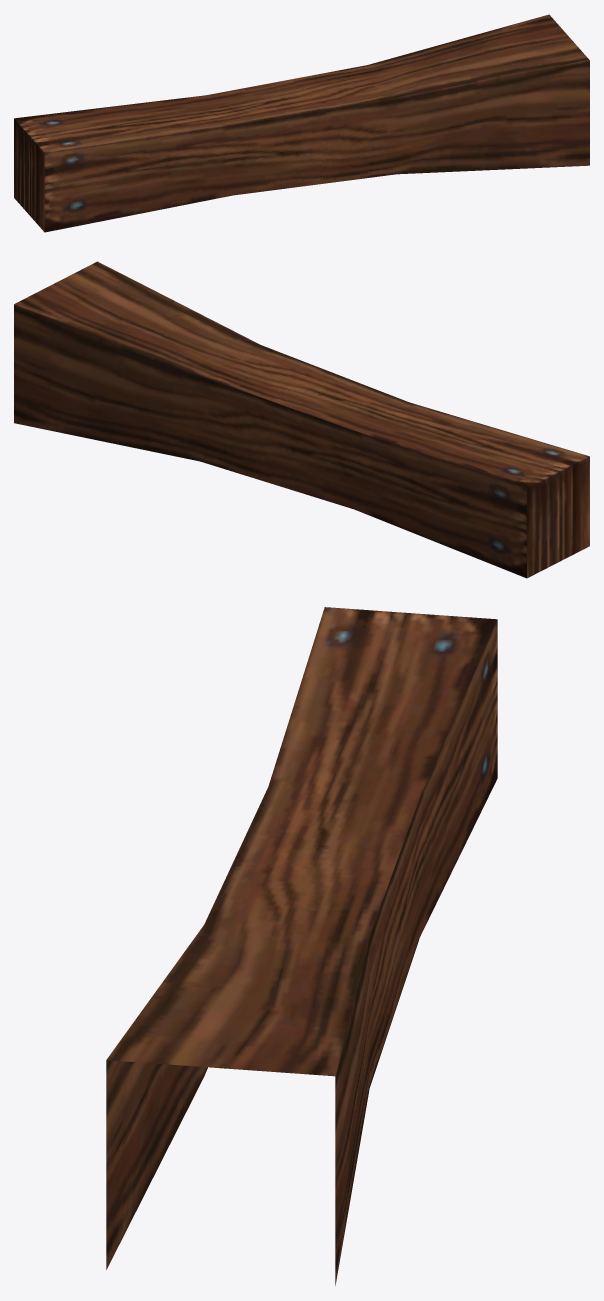
File: OVERHILL_A_01_POST33.fbx
3 renders of one model, top to bottom at view 1: azimuth 30°, elevation 25°; view 2: azimuth 150°, elevation 25°; view 3: azimuth 270°, elevation 25°, orthographic. The views are drawn at different scales.
Visible parts, largest first — view 1: OVERHILL_A_01_POST33; view 2: OVERHILL_A_01_POST33; view 3: OVERHILL_A_01_POST33.
Boxes of the visible parts, box(x1,y1,x2,y2) form: OVERHILL_A_01_POST33: box(14, 14, 589, 232); OVERHILL_A_01_POST33: box(14, 261, 589, 578); OVERHILL_A_01_POST33: box(106, 607, 497, 1285).
Bounding box in the file's own units: 21678 × 4299 × 7244.
1 material, 1 textured.
